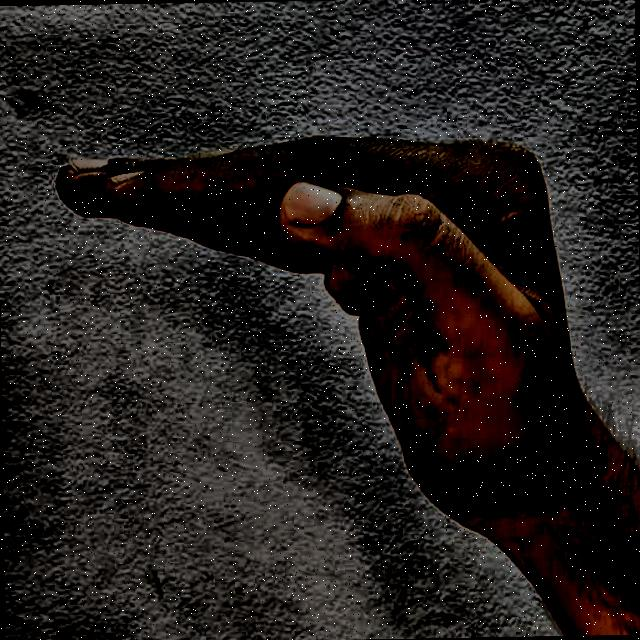Ga: (41, 91, 607, 580)
